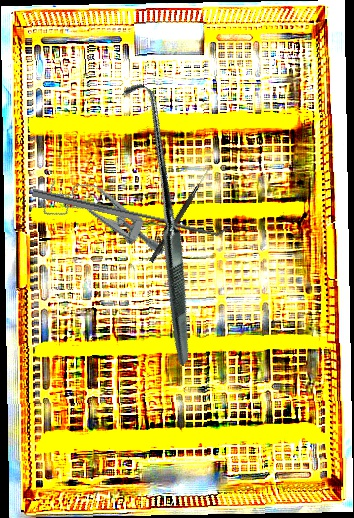Hook Surgical: (16, 78, 300, 367), (149, 166, 211, 264)
Spatula Surgical: (31, 181, 232, 242)
Speculum: (36, 167, 177, 265)
